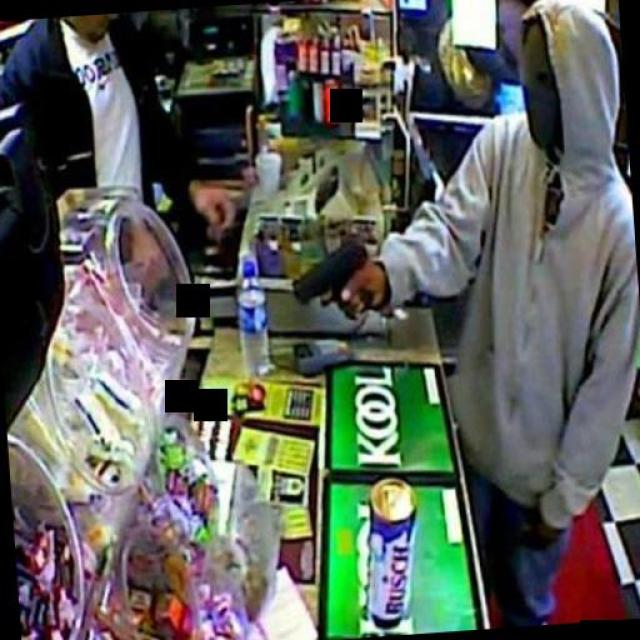gun: (280, 234, 380, 322)
